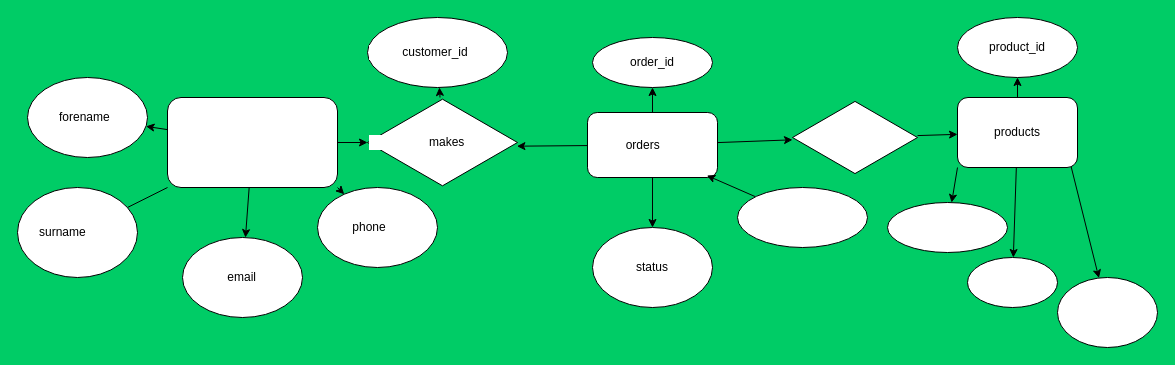
The diagram is 1175 pixels wide and 365 high, and some of its shapes have lost their labels. Each missing label, with the centre of its shape:
contains: the point at 855,137
customers: the point at 252,142
date_placed: the point at 802,217
name: the point at 947,227
price: the point at 1107,312
stock: the point at 1012,282
